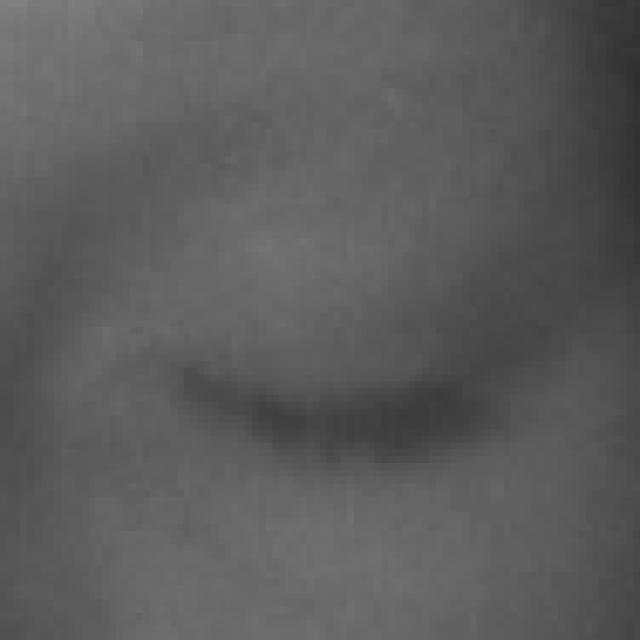Eyeclosed: (179, 198, 516, 614)
